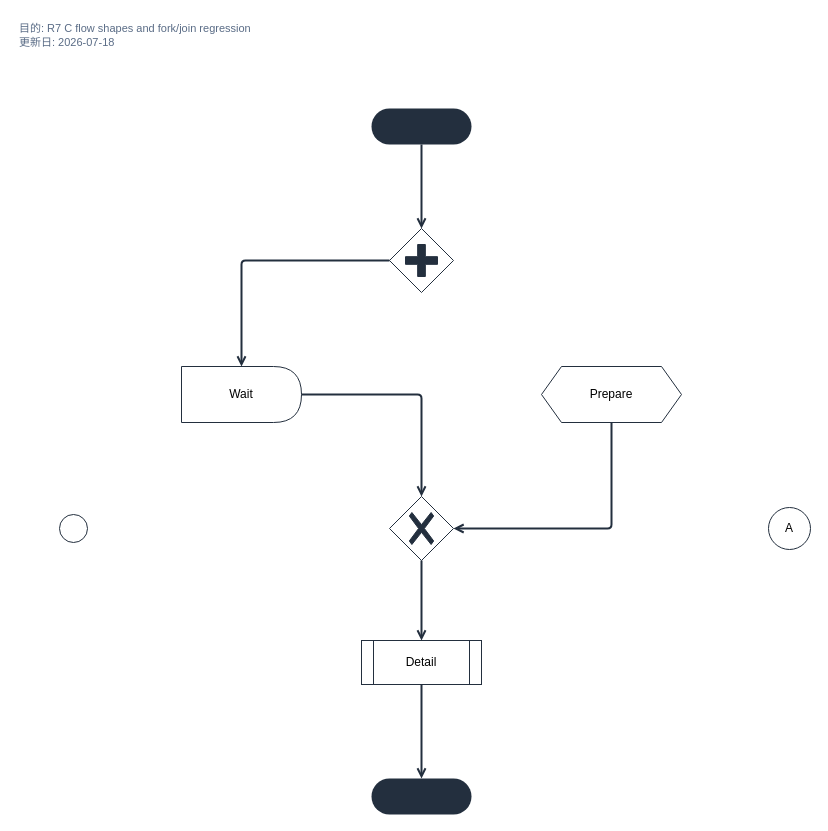
Image size: 828x831. Some labels were removed from this diagram. Here are the shapes that lost their labels. From the top down, the box of each, then its label:
(371, 108, 471, 144): Start
(371, 778, 471, 814): End
